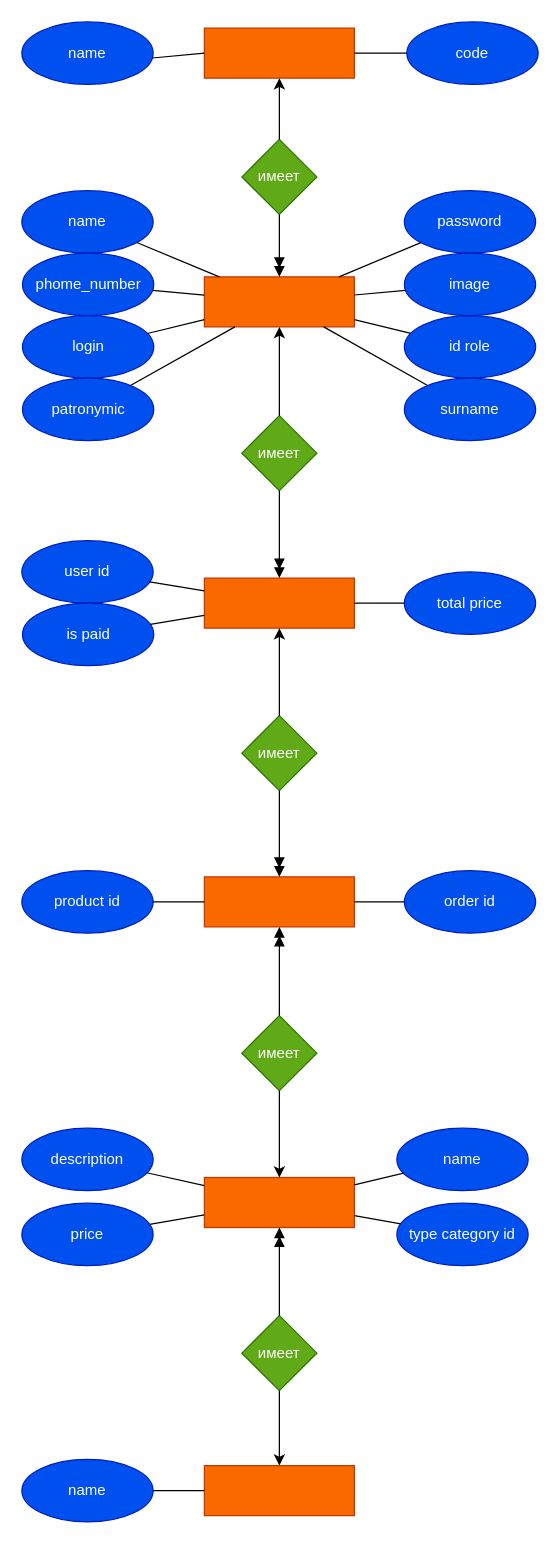
Some shapes in this 560 by 1544 pixel diagram are drawn without their labels. Here are the shapes that lost their labels. From the top down, the centre of each, then its label:
point (278, 52): roles
point (278, 301): users
point (278, 602): orders
point (278, 901): carts
point (278, 1202): products
point (278, 1490): type_categoties
